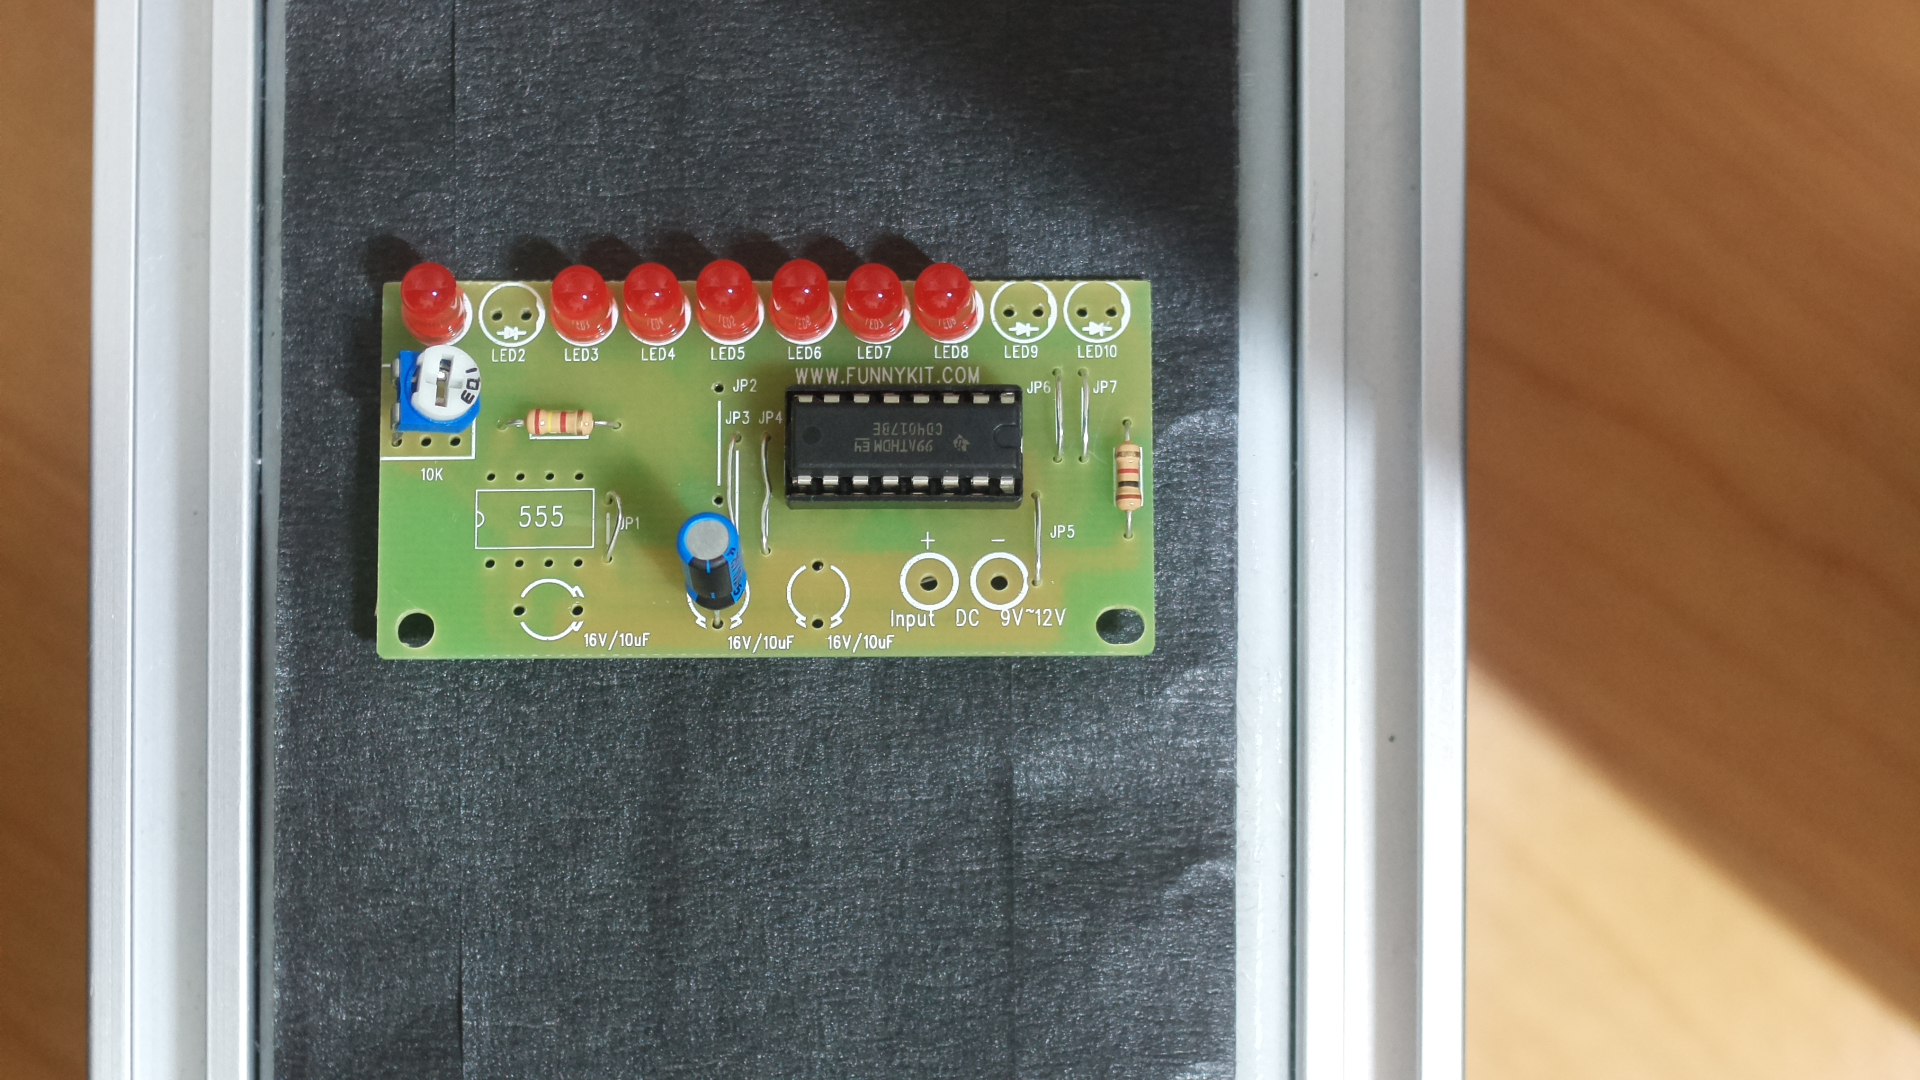B_Missing_part: (372, 249, 1182, 691)
